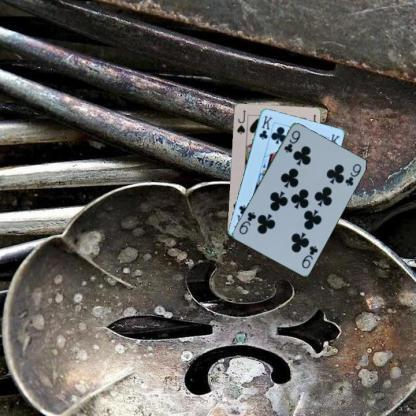9c: (299, 242, 319, 270), (282, 128, 302, 154)
Js: (234, 108, 247, 136)
Kc: (256, 112, 274, 140)
